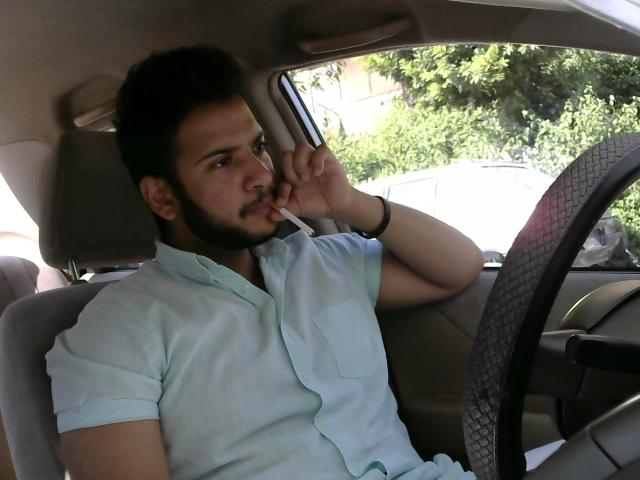Smoking: (268, 204, 322, 235)
